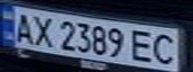2: (54, 17, 78, 52)
3: (72, 20, 93, 55)
8: (90, 22, 109, 56)
9: (106, 26, 130, 60)
A: (9, 10, 36, 45)
C: (148, 32, 181, 65)
E: (127, 28, 160, 63)
X: (27, 12, 57, 47)
